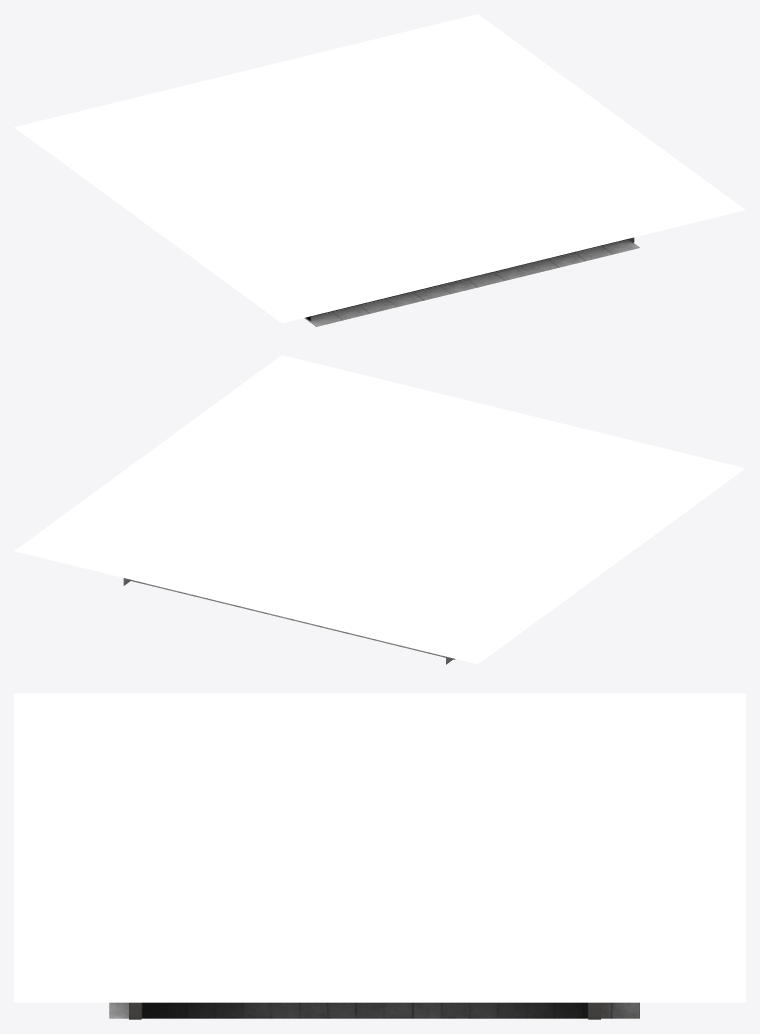
File: brutalist_interior2.glb
3 views of the same model, one above another, from view 1: azimuth 30°, elevation 25°; view 2: azimuth 150°, elevation 25°; view 3: azimuth 270°, elevation 25° (orthographic). The views are drawn at different scales.
Parts seen in each view (by area): view 1: Plane.044_Concrete Tiles_0.001; view 2: Plane.044_Concrete Tiles_0.001; view 3: Plane.044_Concrete Tiles_0.001.
Boxes of the visible parts, x1,y1,x2,y2 form: Plane.044_Concrete Tiles_0.001: (14, 14, 745, 326); Plane.044_Concrete Tiles_0.001: (14, 355, 745, 664); Plane.044_Concrete Tiles_0.001: (14, 693, 745, 1019).
Size of the model in its own units: 116 by 11.07 by 116.
Materials: 2 (1 with a texture image).
